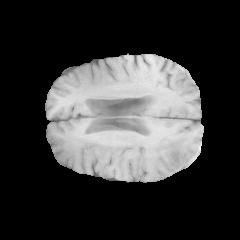glioma: (143, 137, 197, 181)
